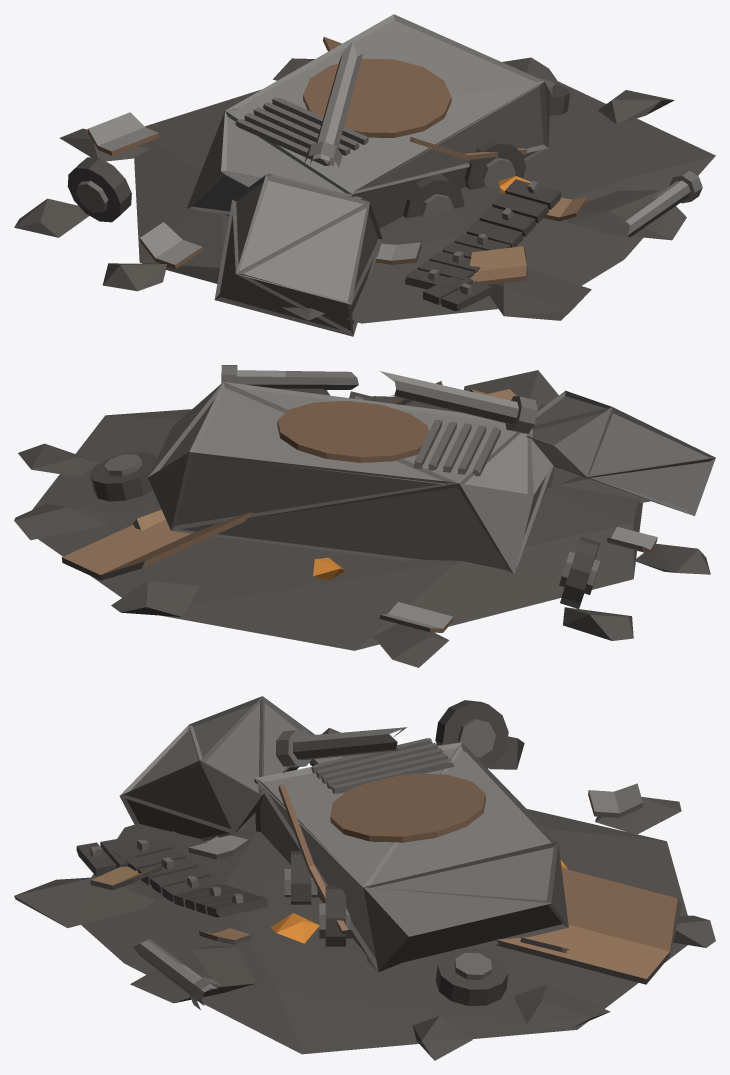
File: wreck_0.glb
The picture shows the model from 3 angles, top to bottom: view 1: azimuth 30°, elevation 25°; view 2: azimuth 150°, elevation 25°; view 3: azimuth 270°, elevation 25°; orthographic projection. The views are drawn at different scales.
Parts seen in each view (by area): view 1: Body; view 2: Body; view 3: Body.
Boxes of the visible parts, x1,y1,x2,y2 form: Body: [14, 14, 715, 336]; Body: [14, 365, 715, 667]; Body: [14, 696, 715, 1060].
Size of the model in its own units: 6.03 by 1.64 by 5.52.
